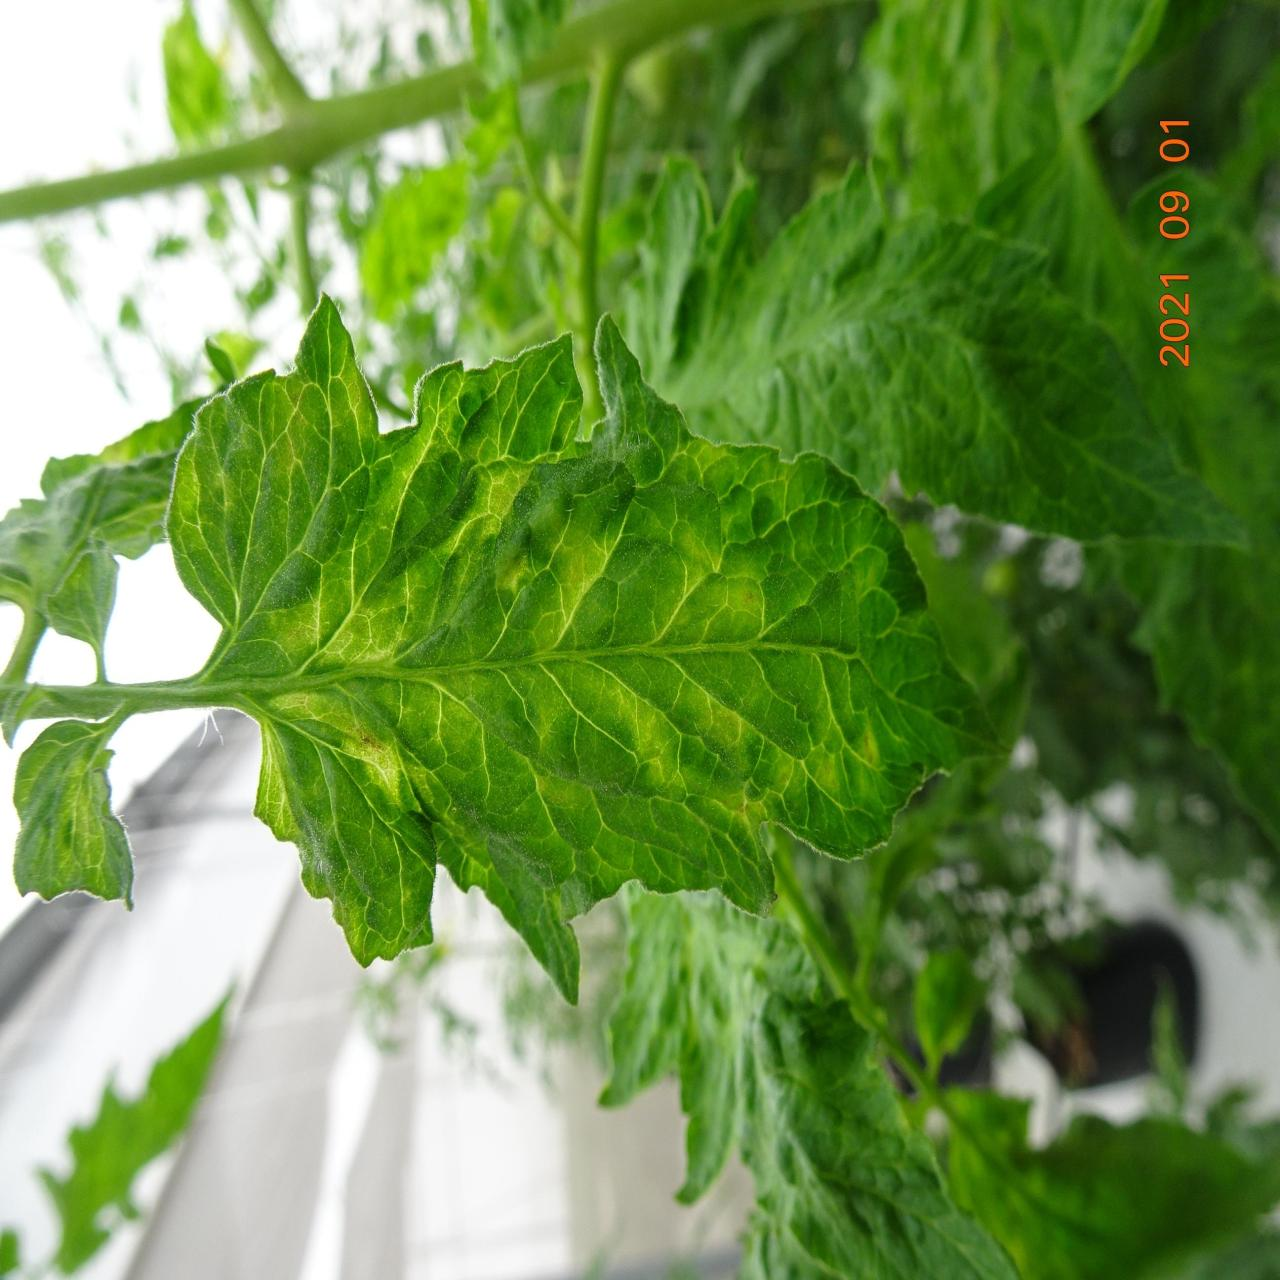T_L_R: (261, 324, 989, 994), (169, 304, 381, 685)
